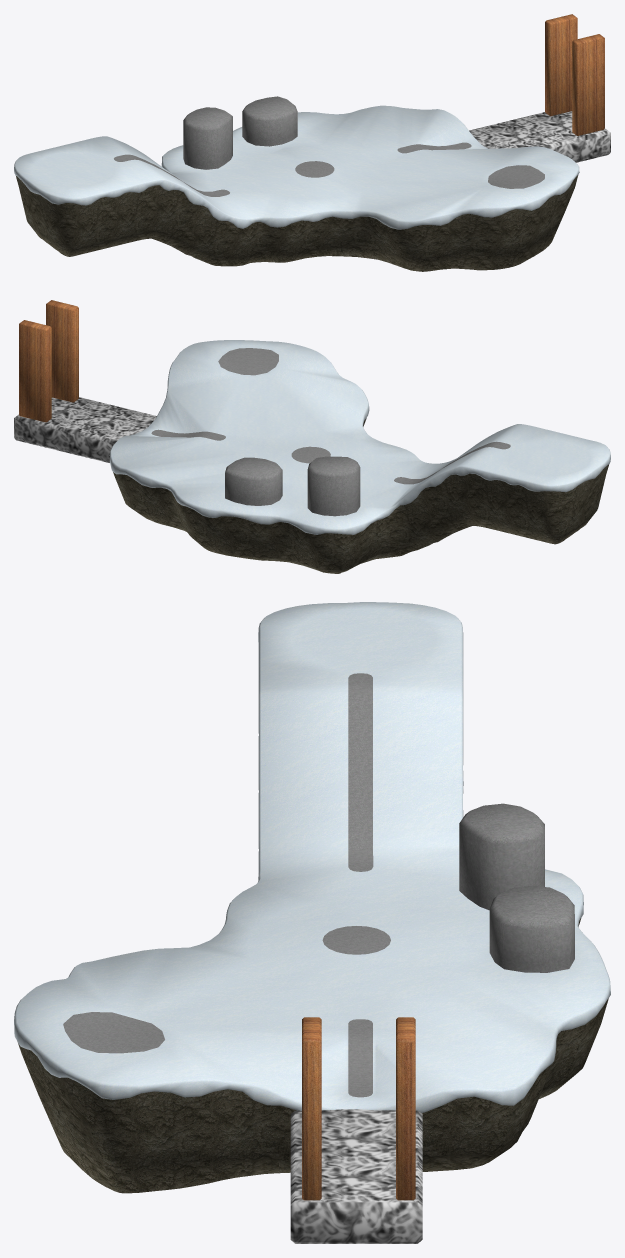
File: SnowballDryIcePlanetA.fbx
3 renders of one model, top to bottom at view 1: azimuth 30°, elevation 25°; view 2: azimuth 150°, elevation 25°; view 3: azimuth 270°, elevation 25°, orthographic. The views are drawn at different scales.
Parts seen in each view (by area): view 1: Circle.001, Circle.002, Circle.000, Circle.003, Circle.004; view 2: Circle.001, Circle.002, Circle.000, Circle.003, Circle.004; view 3: Circle.001, Circle.002, Circle.000, Circle.004, Circle.003.
Part boxes in pixels (box(x1,y1,x2,y2)): Circle.001: box(14, 105, 579, 229); Circle.002: box(16, 175, 578, 271); Circle.000: box(114, 96, 544, 196); Circle.003: box(545, 14, 604, 135); Circle.004: box(469, 111, 610, 162); Circle.001: box(109, 340, 610, 534); Circle.002: box(113, 418, 608, 573); Circle.000: box(151, 348, 510, 516); Circle.003: box(19, 300, 78, 422); Circle.004: box(14, 397, 156, 462); Circle.001: box(14, 602, 610, 1112); Circle.002: box(18, 918, 608, 1193); Circle.000: box(63, 673, 574, 1097); Circle.004: box(290, 1109, 422, 1243); Circle.003: box(302, 1017, 415, 1200).
Bounding box in the file's own units: 538979 × 128369 × 284740.
Materials: 5 (5 with a texture image).
